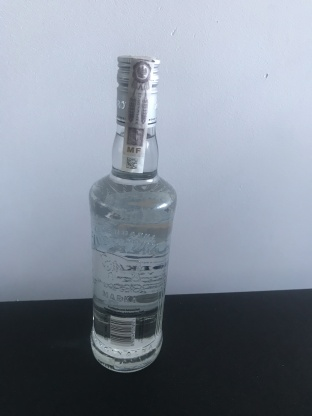nakretka: (112, 50, 163, 130), (163, 122, 180, 130)
